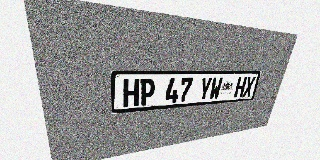4: (165, 78, 180, 104)
7: (178, 78, 193, 102)
H: (123, 79, 140, 107), (234, 77, 247, 98)
P: (139, 78, 156, 106)
W: (209, 77, 223, 100)
X: (242, 77, 256, 97)
Y: (198, 77, 213, 101)
